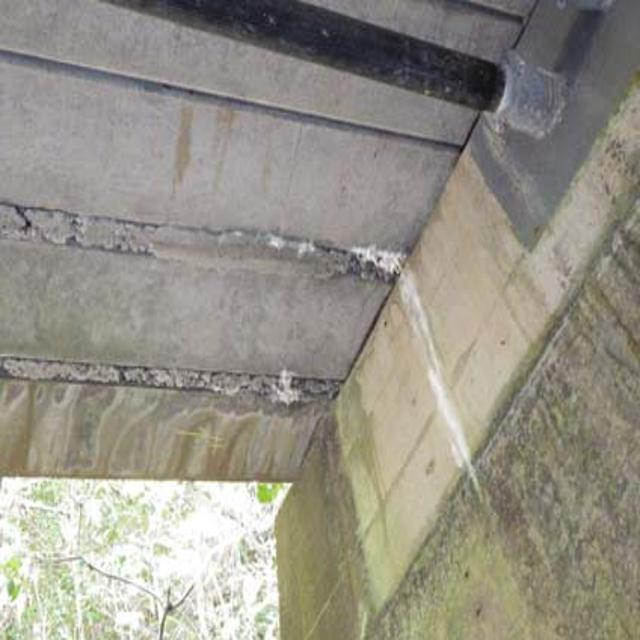freelime: (302, 204, 504, 499)
